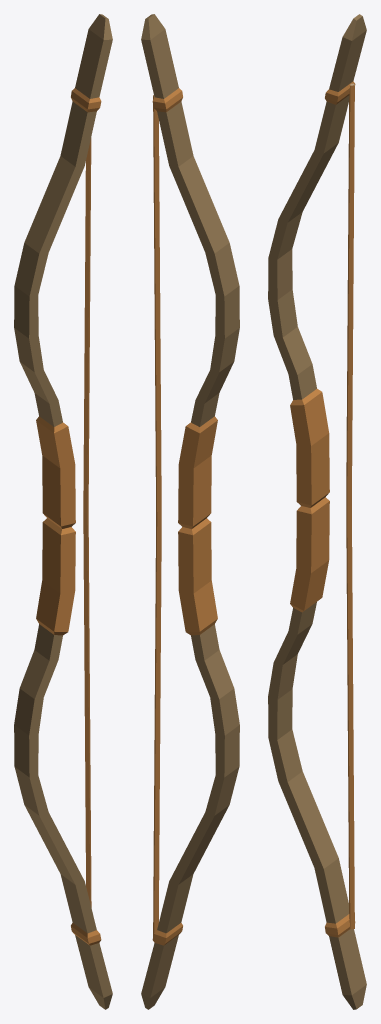
The model's file is SM_pwe_rome_bow_03.fbx.
The picture shows the model from 3 angles, left to right: view 1: azimuth 30°, elevation 25°; view 2: azimuth 150°, elevation 25°; view 3: azimuth 330°, elevation 25°; orthographic projection.
Parts seen in each view (by area): view 1: SM_pwe_rome_bow_03; view 2: SM_pwe_rome_bow_03; view 3: SM_pwe_rome_bow_03.
Boxes of the visible parts, x1,y1,x2,y2 form: SM_pwe_rome_bow_03: (14,14,112,1009); SM_pwe_rome_bow_03: (141,14,239,1009); SM_pwe_rome_bow_03: (268,14,366,1009).
Size of the model in its own units: 9.69 by 109 by 3.62.
